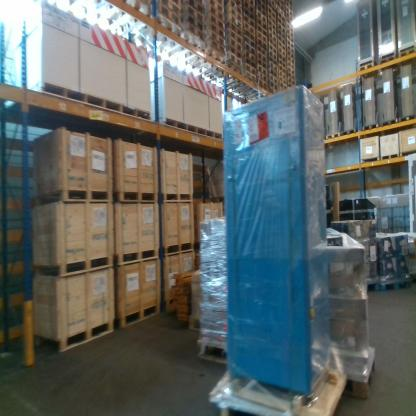pallet: (204, 368, 346, 415), (17, 81, 152, 130), (149, 110, 228, 154), (32, 318, 119, 354), (324, 346, 383, 397), (148, 30, 210, 74), (92, 2, 163, 37), (126, 16, 187, 54), (32, 253, 116, 274), (39, 186, 115, 208), (183, 50, 227, 81), (113, 302, 160, 331), (196, 337, 242, 365), (203, 58, 244, 87), (110, 190, 160, 209), (380, 267, 412, 292), (163, 234, 194, 259), (114, 248, 159, 264), (186, 314, 208, 341), (158, 188, 195, 204), (358, 56, 380, 81), (359, 274, 380, 298), (231, 75, 255, 95), (378, 52, 397, 72), (206, 30, 226, 46), (398, 46, 415, 63), (226, 46, 244, 60), (208, 39, 226, 53), (251, 84, 268, 98), (375, 118, 398, 127), (228, 52, 243, 65), (361, 122, 378, 133), (399, 114, 415, 125), (340, 129, 357, 139), (245, 64, 258, 77), (244, 57, 257, 70), (324, 131, 340, 141), (268, 73, 279, 86), (257, 72, 268, 82), (268, 80, 278, 89)
